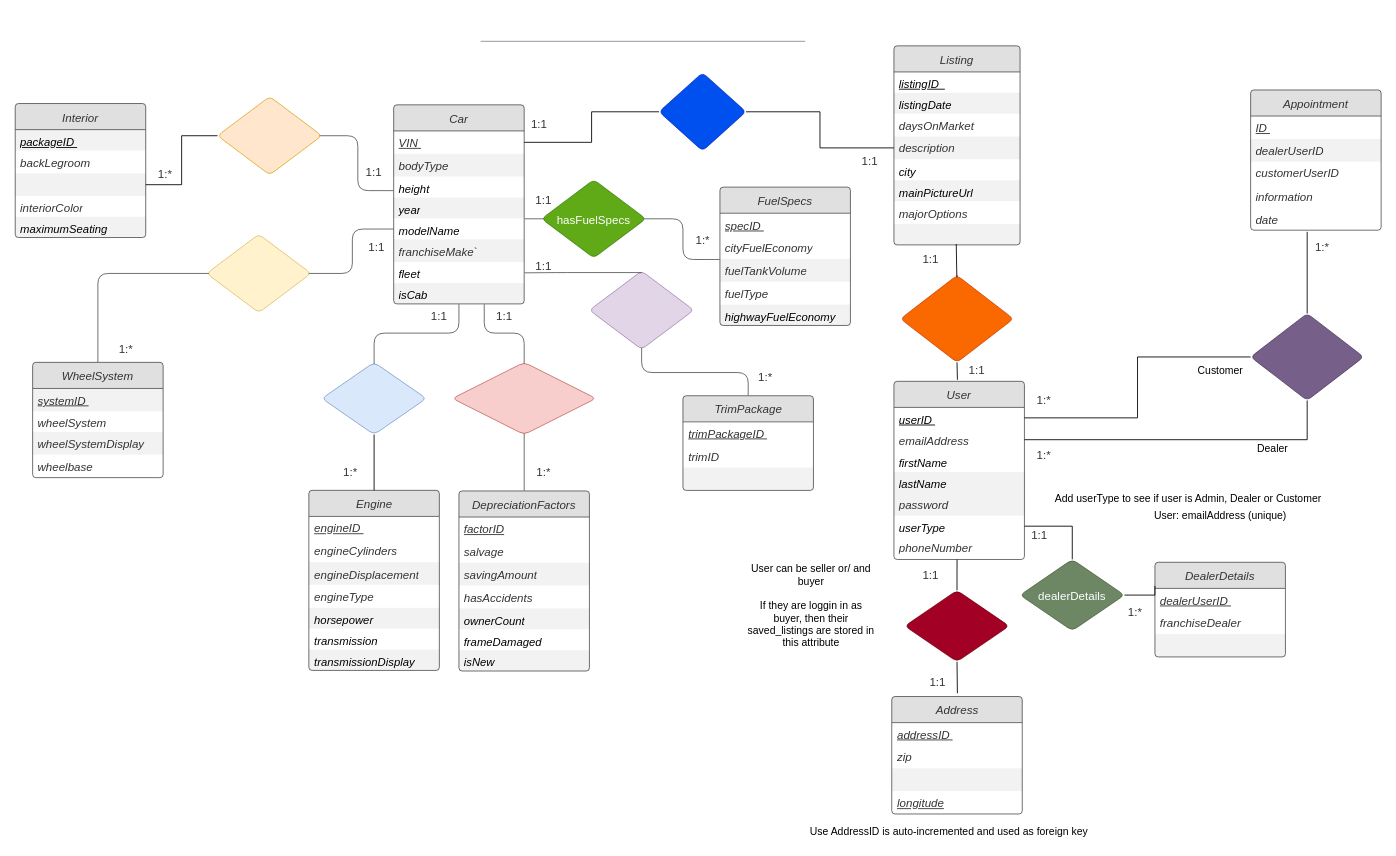
The diagram is 1396 pixels wide and 856 high, and some of its shapes have lost their labels. Each missing label, with the centre of its shape:
"frontLegroom" belongs at (x=80, y=184).
"hasDepreciationFactors" belongs at (x=524, y=398).
"hasEngine" belongs at (x=373, y=398).
"hasInterior" belongs at (x=269, y=135).
"hasListing" belongs at (x=702, y=111).
"hasTrimSpecs" belongs at (x=641, y=309).
"hasWheelSystem" belongs at (x=258, y=273).
"haveAppointment" belongs at (x=1307, y=356).
"isSeller" belongs at (x=956, y=318).
"latitude" belongs at (x=956, y=779).
"livesIn" belongs at (x=956, y=626).
"price" belongs at (x=956, y=234).
"sellerRating" belongs at (x=1219, y=645).
"trimName" belongs at (x=748, y=478).
"Used Cars ERD" belongs at (x=641, y=28).
